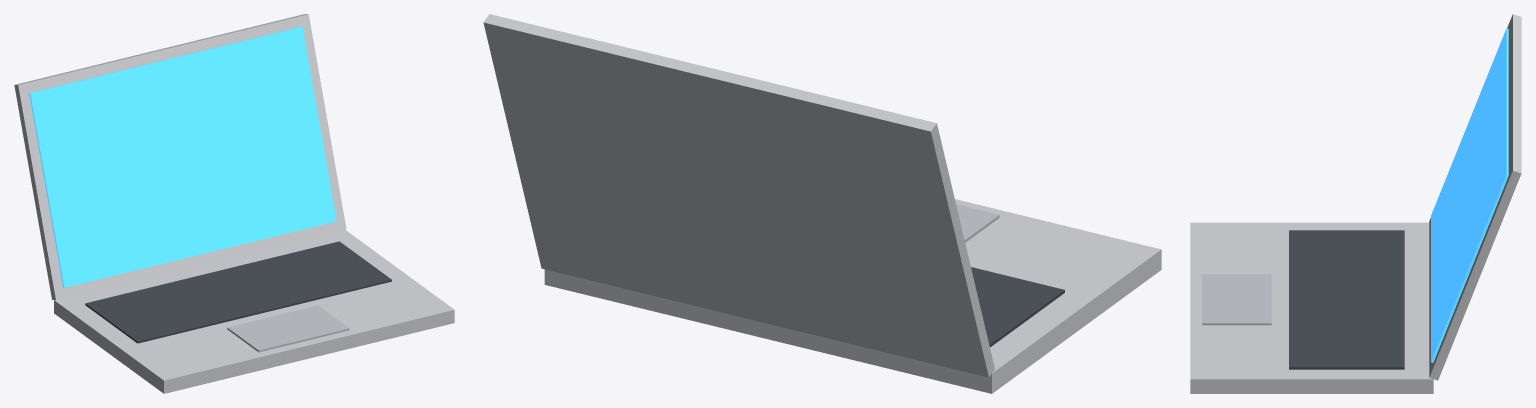
File: laptop.glb
3 renders of one model, left to right at view 1: azimuth 30°, elevation 25°; view 2: azimuth 150°, elevation 25°; view 3: azimuth 270°, elevation 25°, orthographic. The views are drawn at different scales.
Parts seen in each view (by area): view 1: screen, base, keys, lid, pad; view 2: lid, base, keys, pad; view 3: base, keys, screen, lid, pad.
Part boxes in pixels (left/top/right/bottom): screen: left=29, top=26, right=336, bottom=287; base: left=54, top=230, right=454, bottom=393; keys: left=85, top=241, right=391, bottom=343; lid: left=14, top=14, right=346, bottom=300; pad: left=227, top=305, right=349, bottom=352; lid: left=483, top=14, right=994, bottom=377; base: left=544, top=199, right=1161, bottom=393; keys: left=971, top=267, right=1064, bottom=347; pad: left=956, top=204, right=999, bottom=242; base: left=1190, top=222, right=1433, bottom=393; keys: left=1289, top=230, right=1404, bottom=369; screen: left=1431, top=28, right=1508, bottom=362; lid: left=1429, top=14, right=1521, bottom=380; pad: left=1202, top=274, right=1271, bottom=325.
Size of the model in its own units: 0.32 by 0.2126 by 0.2858.
